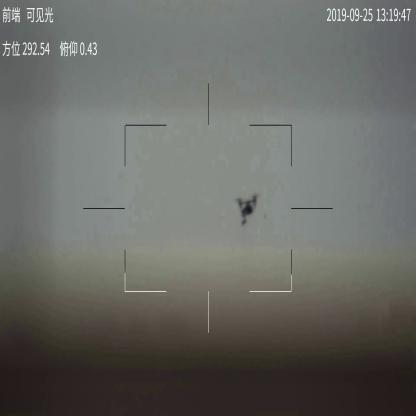uav: (235, 194, 262, 225)
